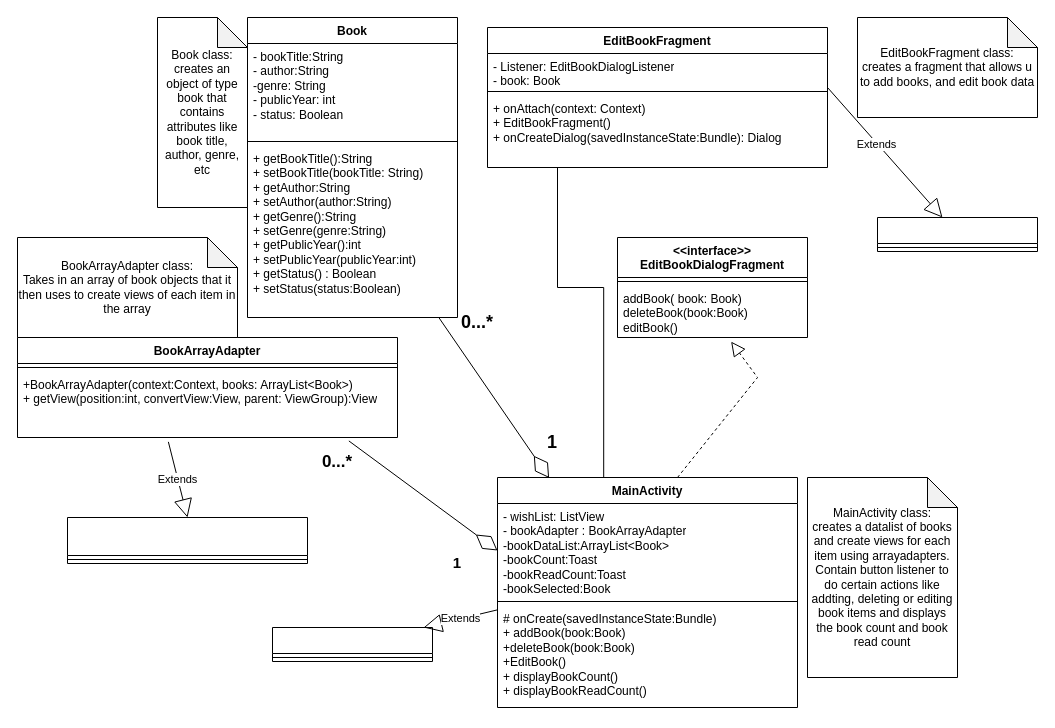
Some shapes in this 1055 by 728 pixel diagram are drawn without their labels. The shapes that lost their labels are listed below. From the top down, each one's centre as x and y in pixels, then its label:
At (x=957, y=234): "DialogFragment".
At (x=187, y=540): "ArrayAdapter".
At (x=352, y=644): "AppCompatActivity".
